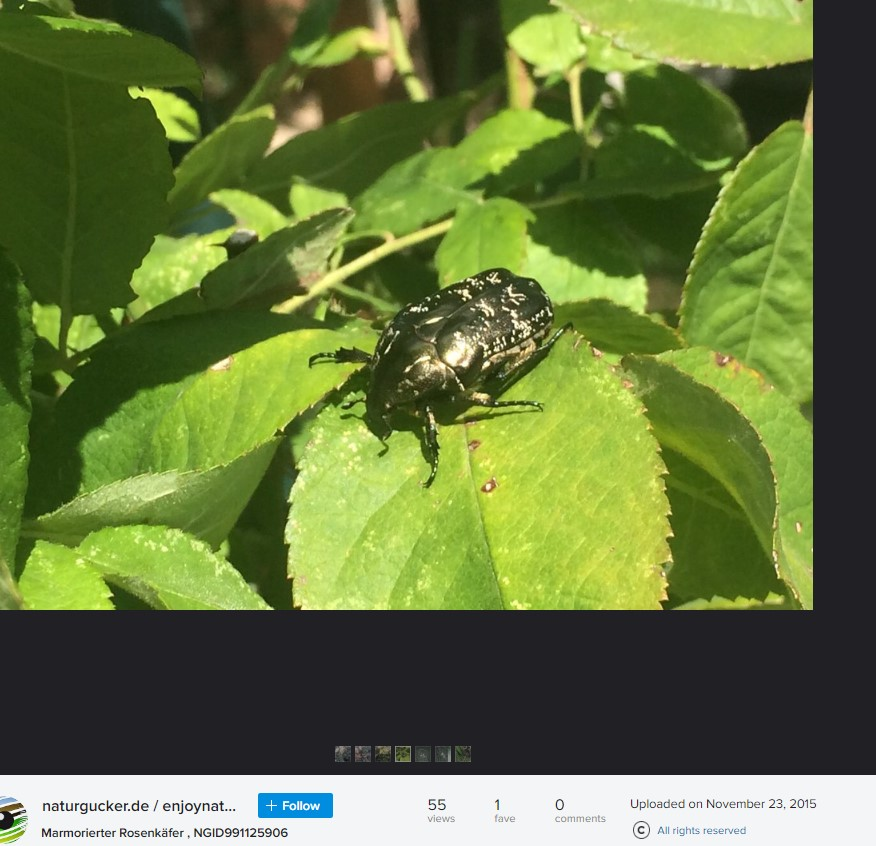Protaetia_lugubris: (303, 263, 572, 491)
